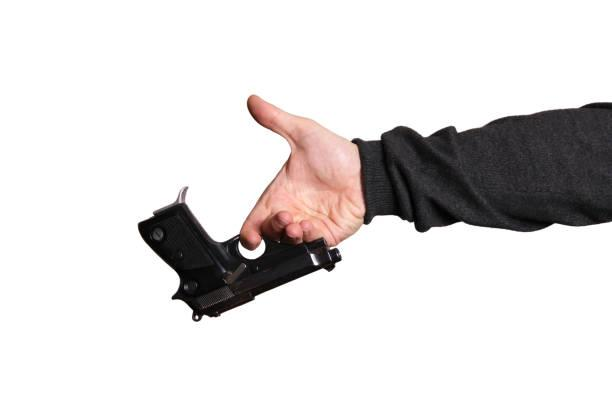weapon: (133, 184, 344, 323)
